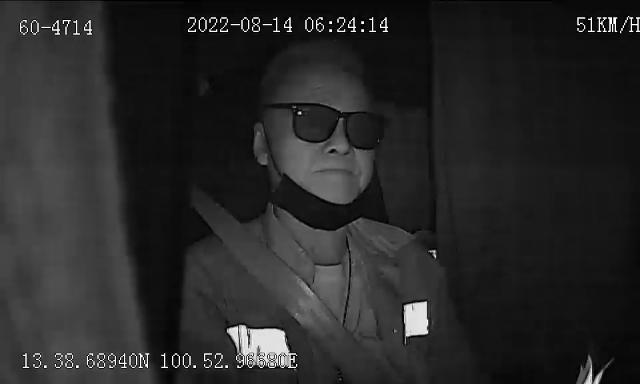Seatbelt: (189, 190, 379, 384)
